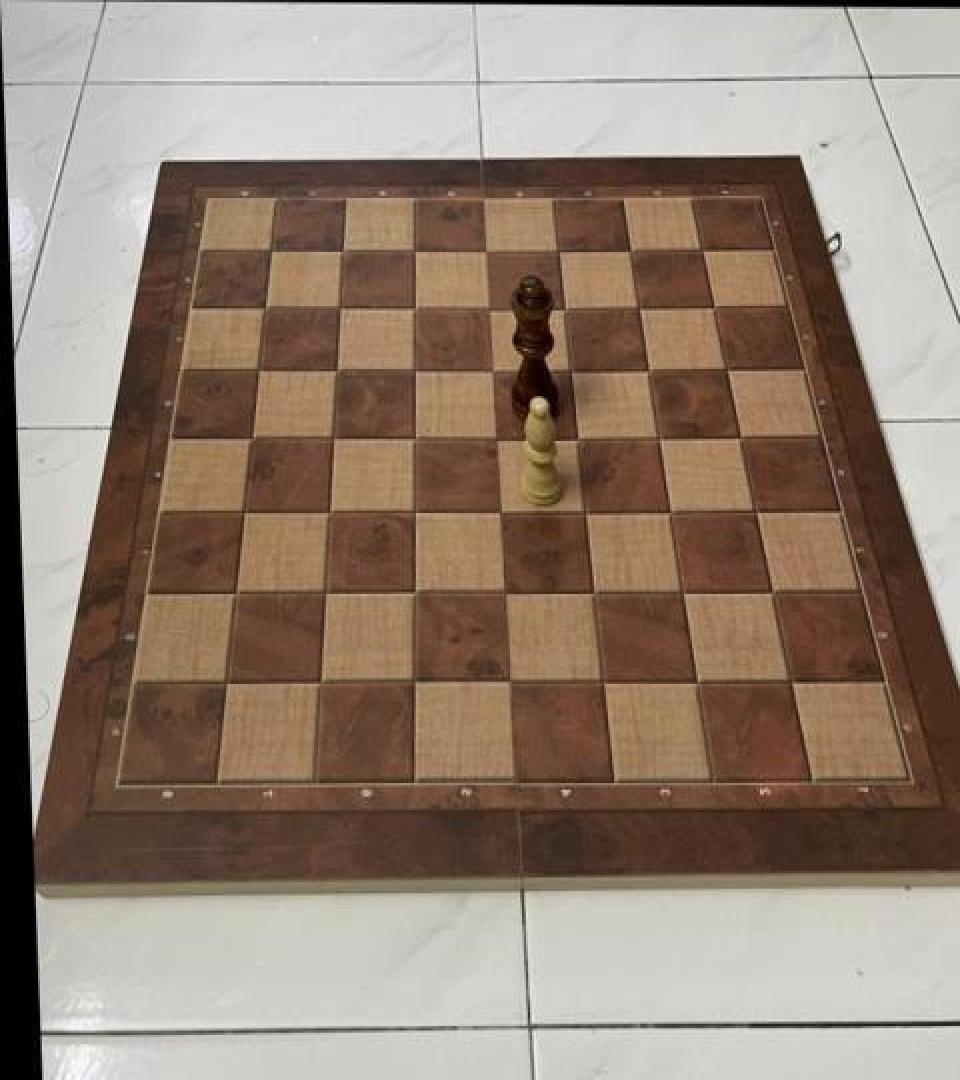xcorner: (577, 572, 609, 609), (666, 572, 698, 609), (755, 571, 787, 608), (680, 661, 712, 698), (773, 660, 805, 697), (255, 230, 287, 266), (327, 230, 359, 266), (399, 230, 431, 266), (471, 230, 503, 266), (542, 230, 574, 266), (614, 230, 646, 266), (685, 230, 717, 266), (249, 288, 281, 324), (324, 288, 356, 324), (399, 288, 431, 324), (474, 288, 506, 324), (548, 288, 580, 324), (622, 288, 654, 324), (697, 288, 729, 324), (243, 351, 275, 387), (321, 351, 353, 387), (399, 350, 431, 386), (477, 350, 509, 386), (555, 350, 587, 386), (632, 350, 664, 386), (709, 350, 741, 386), (236, 418, 268, 454), (318, 418, 350, 454), (399, 418, 431, 454), (480, 418, 512, 454), (561, 418, 593, 454), (642, 418, 674, 454), (723, 418, 755, 454), (229, 493, 261, 529), (314, 493, 346, 529), (399, 493, 431, 529), (484, 492, 516, 528), (569, 492, 601, 528), (654, 492, 686, 528), (738, 490, 770, 526), (221, 575, 253, 611), (310, 574, 342, 610), (399, 574, 431, 610), (489, 574, 521, 610), (212, 665, 244, 701), (306, 664, 338, 700), (400, 664, 432, 700), (493, 662, 525, 698), (587, 662, 619, 698)
